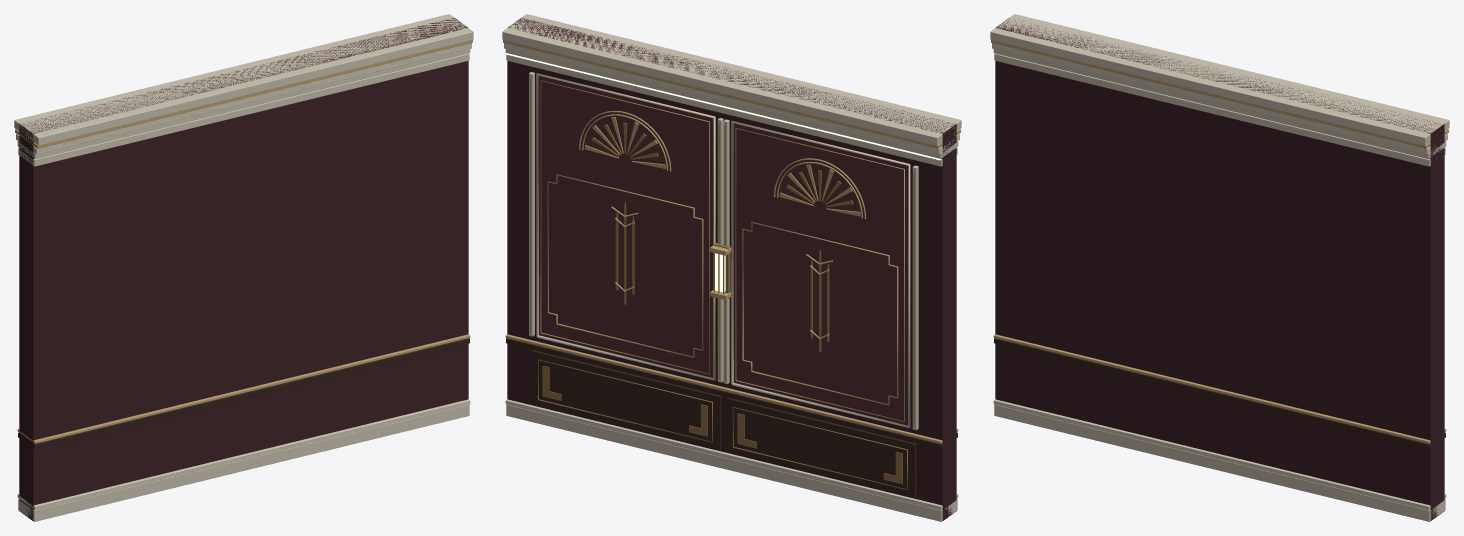
The model's file is casino-deco-casino-wall-sm.glb.
3 views of the same model, side by side, from view 1: azimuth 30°, elevation 25°; view 2: azimuth 150°, elevation 25°; view 3: azimuth 330°, elevation 25° (orthographic).
Visible parts, largest first — view 1: casino-wall-sm / Entry deep oxblood reveals, casino-wall-sm / Entry carved limestone, casino-wall-sm / Entry ivory marble, casino-wall-sm / Entry champagne brass, casino-wall-sm / Entry dark walnut; view 2: casino-wall-sm / Entry smoky oxblood lacquer, casino-wall-sm / Entry carved limestone, casino-wall-sm / Entry deep oxblood reveals, casino-wall-sm / Entry dark walnut, casino-wall-sm / Entry champagne brass, casino-wall-sm / Entry aged bronze, casino-wall-sm / Entry ivory marble, casino-wall-sm / Entry warm opal; view 3: casino-wall-sm / Entry deep oxblood reveals, casino-wall-sm / Entry carved limestone, casino-wall-sm / Entry ivory marble, casino-wall-sm / Entry champagne brass, casino-wall-sm / Entry dark walnut.
Boxes of the visible parts, box(x1,y1,x2,y2) form: casino-wall-sm / Entry deep oxblood reveals: box(19, 17, 468, 520); casino-wall-sm / Entry carved limestone: box(14, 14, 473, 521); casino-wall-sm / Entry ivory marble: box(16, 43, 471, 510); casino-wall-sm / Entry champagne brass: box(15, 40, 472, 443); casino-wall-sm / Entry dark walnut: box(18, 338, 469, 449); casino-wall-sm / Entry smoky oxblood lacquer: box(538, 76, 910, 425); casino-wall-sm / Entry carved limestone: box(502, 14, 961, 521); casino-wall-sm / Entry deep oxblood reveals: box(507, 17, 956, 520); casino-wall-sm / Entry dark walnut: box(506, 338, 957, 497); casino-wall-sm / Entry champagne brass: box(503, 40, 960, 443); casino-wall-sm / Entry aged bronze: box(530, 78, 914, 490); casino-wall-sm / Entry ivory marble: box(504, 43, 959, 510); casino-wall-sm / Entry warm opal: box(504, 53, 940, 292); casino-wall-sm / Entry deep oxblood reveals: box(995, 18, 1444, 520); casino-wall-sm / Entry carved limestone: box(990, 14, 1449, 521); casino-wall-sm / Entry ivory marble: box(992, 43, 1447, 510); casino-wall-sm / Entry champagne brass: box(991, 40, 1448, 443); casino-wall-sm / Entry dark walnut: box(994, 338, 1445, 449).
Bounding box in the file's own units: 8 × 6.8 × 0.833.
Materials: 8 (2 with a texture image).
